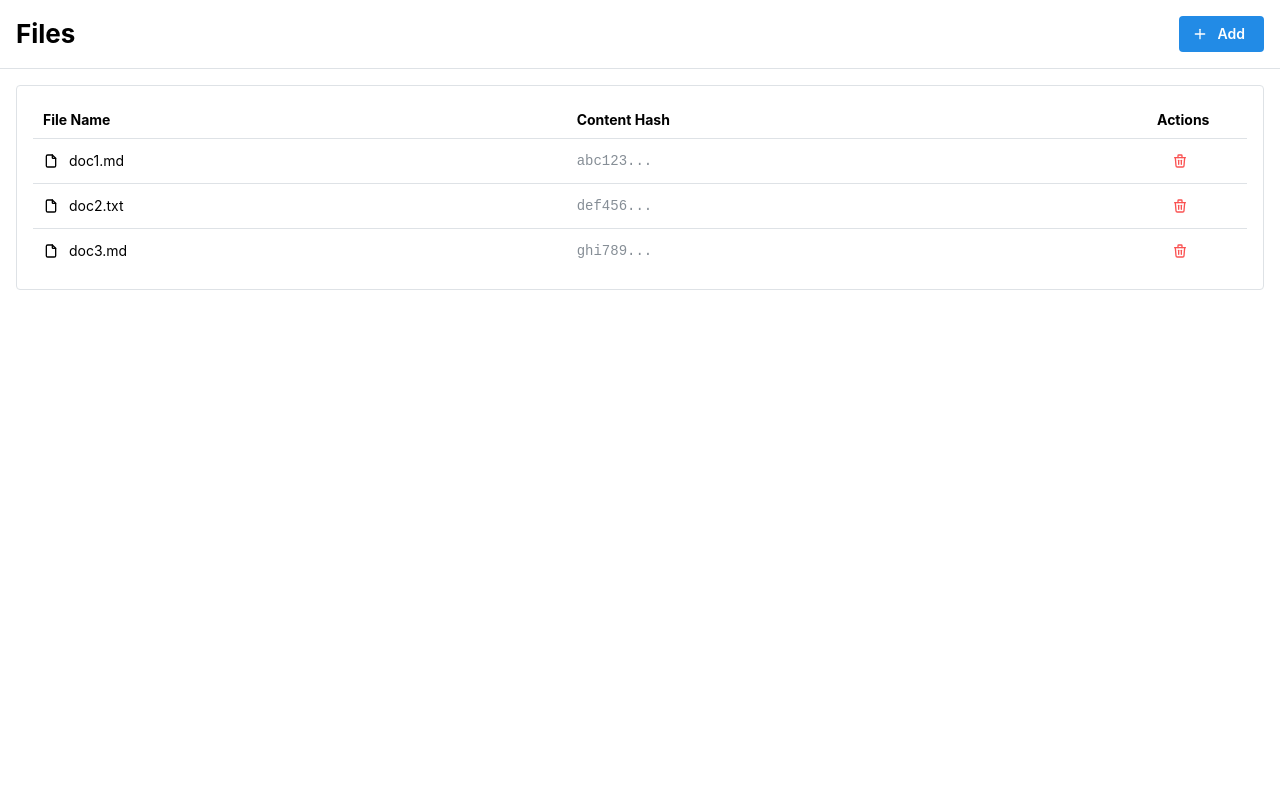
Scenario: FilesPage › opens add file dialog when clicking add button
Expected: the text "doc1.md" is shown, [43, 152, 124, 169]
Note: Click add button
What coordinates should you click on to do the following:
click the button "Add"
I would click on:
 (1221, 34)
Its box is [1178, 16, 1264, 52].
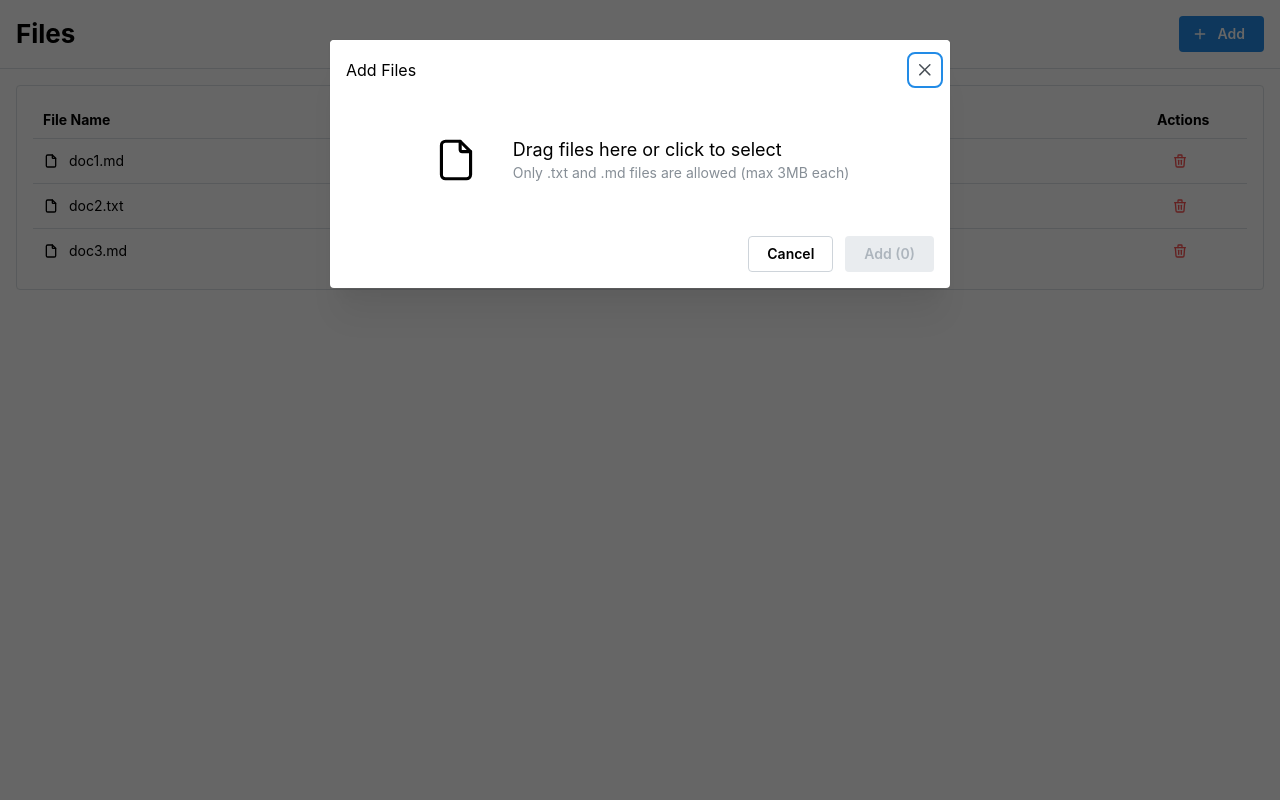
Now the dialog is shown, box [330, 40, 950, 288]
Now the text "Drag files here or click to select" is shown, box [513, 138, 782, 160]
